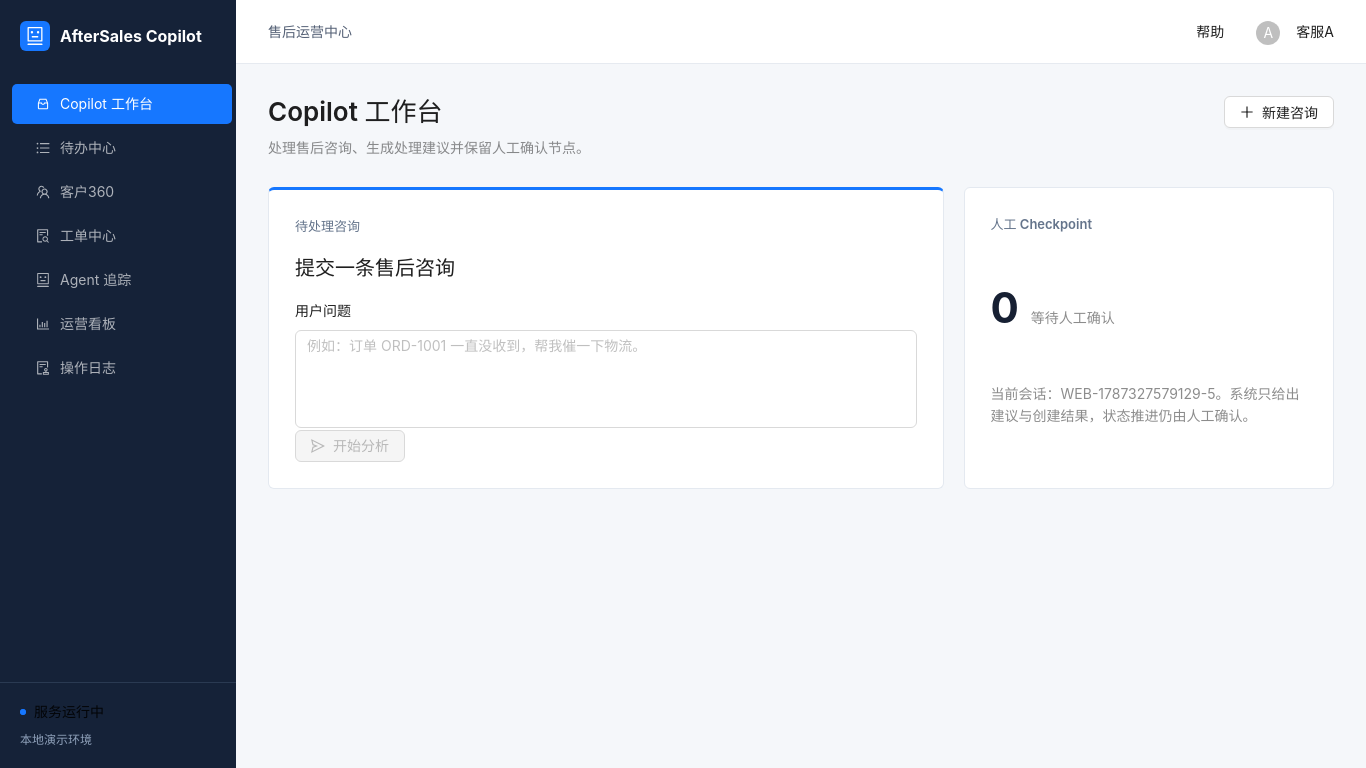
App › shows the retry time when Copilot analysis is rate limited
Type "订单 ORD-1001 怎么还没收到？" into the text box named "用户问题". click: (606, 379)
box: [295,330,916,428]
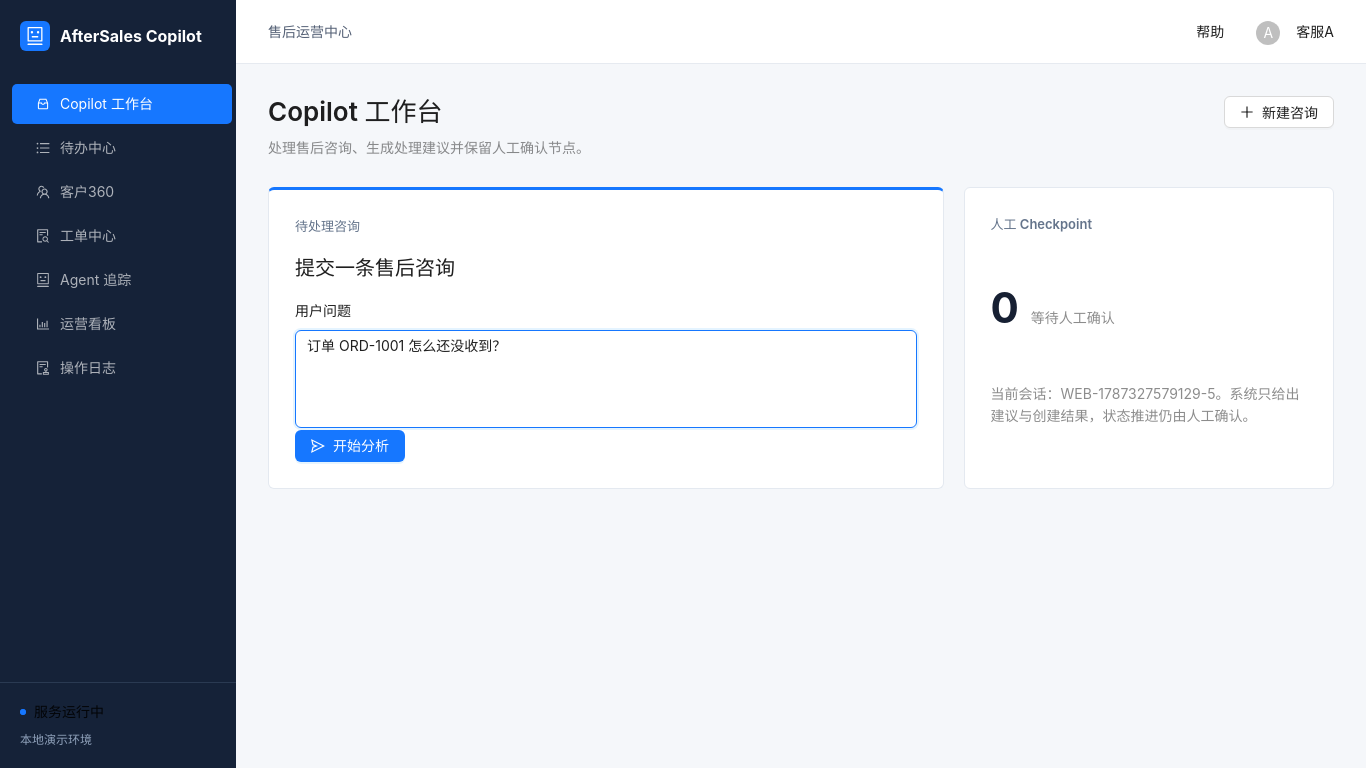
Click the button "开始分析". click: (350, 446)
box: [295,430,405,462]
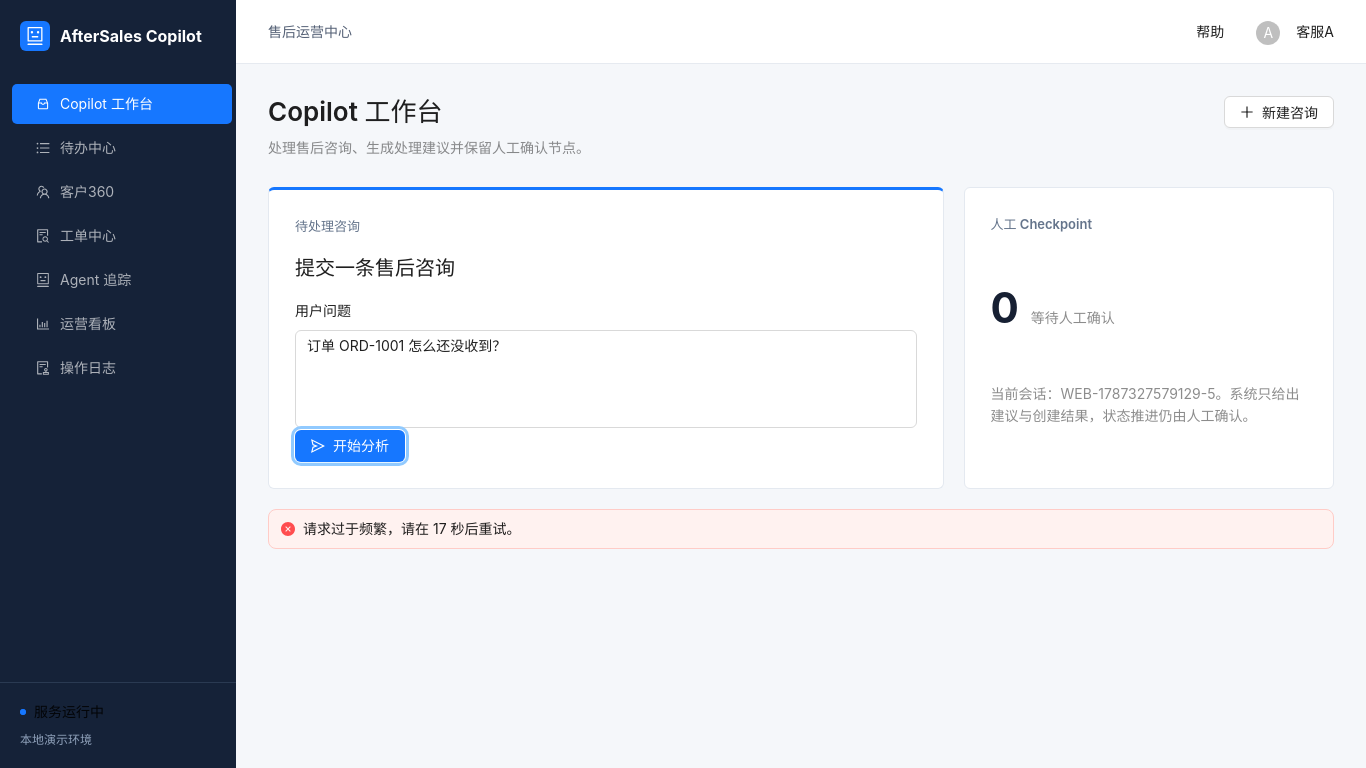
Now the text "请求过于频繁，请在 17 秒后重试。" is shown, box [303,520,520,537]
